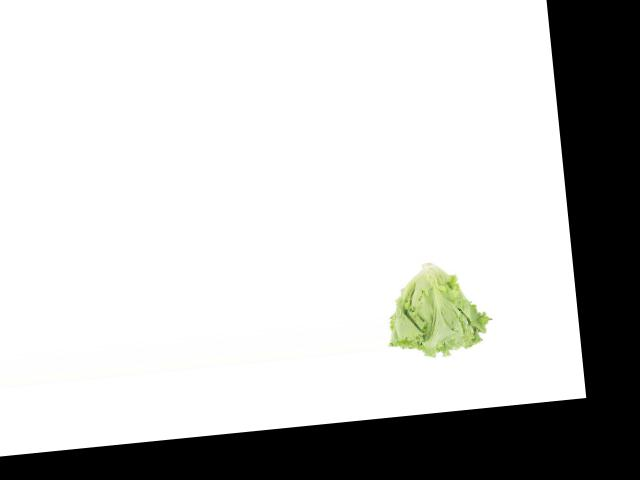lettuce: (379, 254, 490, 366)
